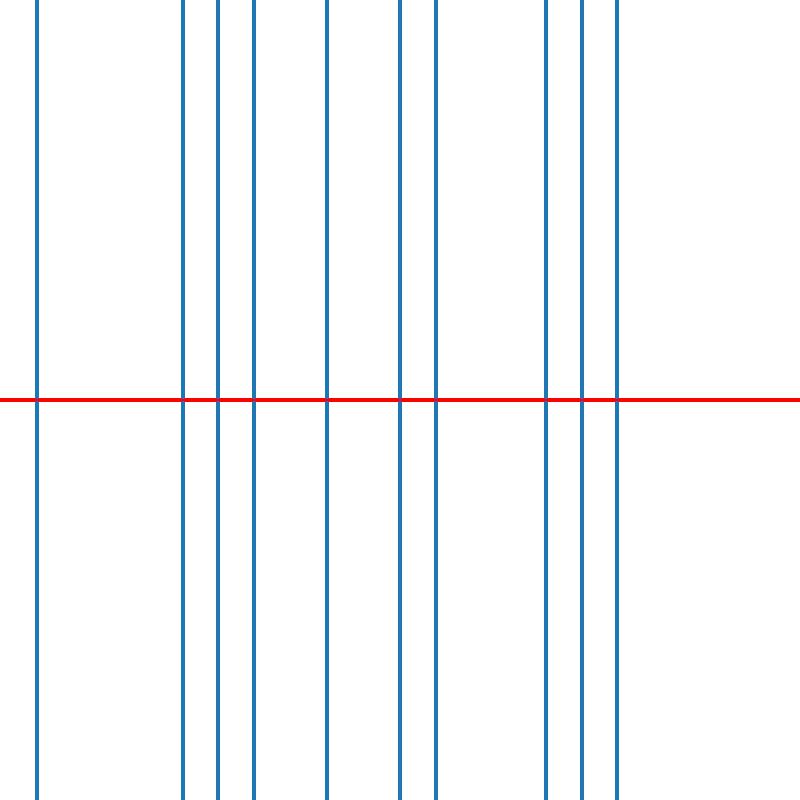root: (432, 396, 440, 404), (250, 396, 258, 404), (32, 396, 40, 404), (541, 396, 549, 404), (614, 396, 621, 404), (323, 396, 330, 404), (178, 396, 185, 404), (214, 396, 221, 404), (578, 396, 585, 404), (396, 396, 403, 404)
